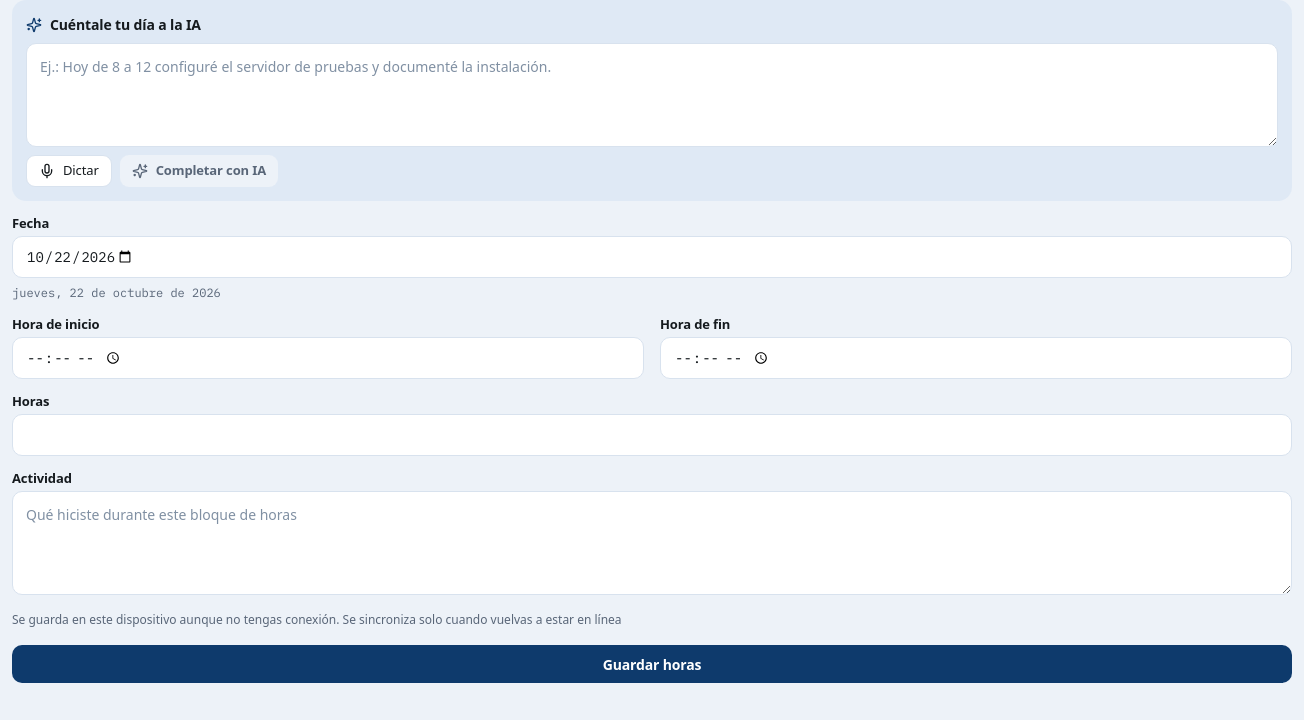
it: Cuéntale tu día a la IA (estudiante) › con lo que cuenta la persona llena fecha, horario, horas y actividad, y dice que fue con IA
The image size is (1304, 720).
Replace the text in the text box labelled "Cuéntale tu día a la IA" with "ayer de 2 a 6 de la tarde el servidor" at (652, 95), box [26, 43, 1278, 147]
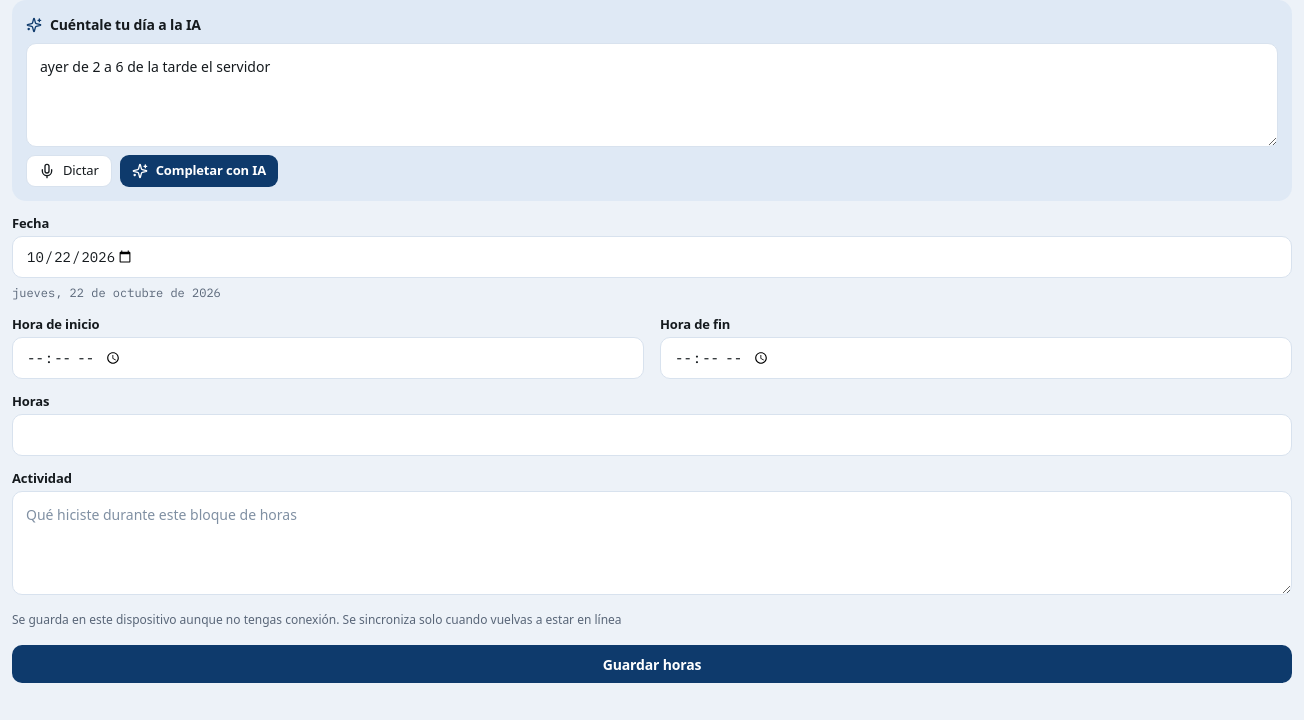
Click the button "Completar con IA".
click(199, 171)  # box [120, 155, 278, 187]
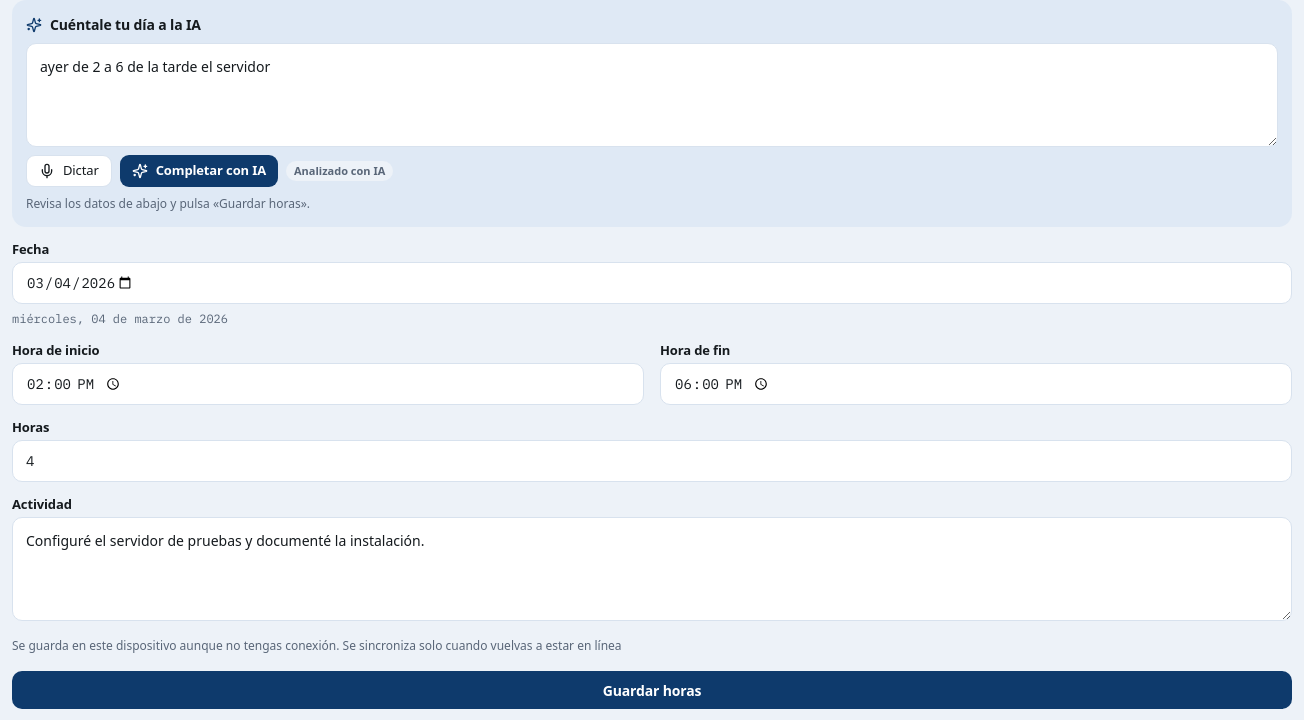
Result: the time field labelled "Hora de inicio" holds "14:00" at [12, 363, 644, 405]
Result: the time field labelled "Hora de fin" holds "18:00" at [660, 363, 1292, 405]
Result: the number field labelled "Horas" holds "4" at [12, 440, 1292, 482]
